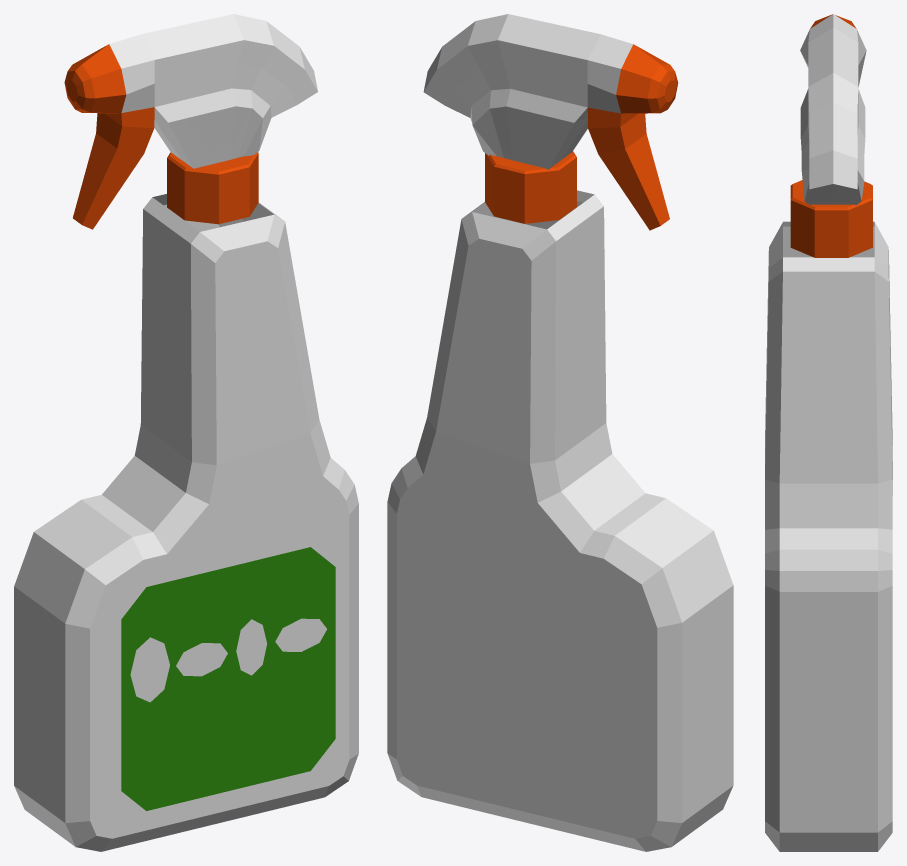
The model's file is Ma_Oven_Cleaner_2.fbx.
3 renders of one model, left to right at view 1: azimuth 30°, elevation 25°; view 2: azimuth 150°, elevation 25°; view 3: azimuth 270°, elevation 25°, orthographic. The views are drawn at different scales.
Visible parts, largest first — view 1: Ma_Oven_Cleaner_2; view 2: Ma_Oven_Cleaner_2; view 3: Ma_Oven_Cleaner_2.
Part boxes in pixels (x1,y1,x2,y2): Ma_Oven_Cleaner_2: (14,14,358,851); Ma_Oven_Cleaner_2: (387,14,733,851); Ma_Oven_Cleaner_2: (765,14,892,851).
Bounding box in the file's own units: 86.02 × 34.49 × 219.
